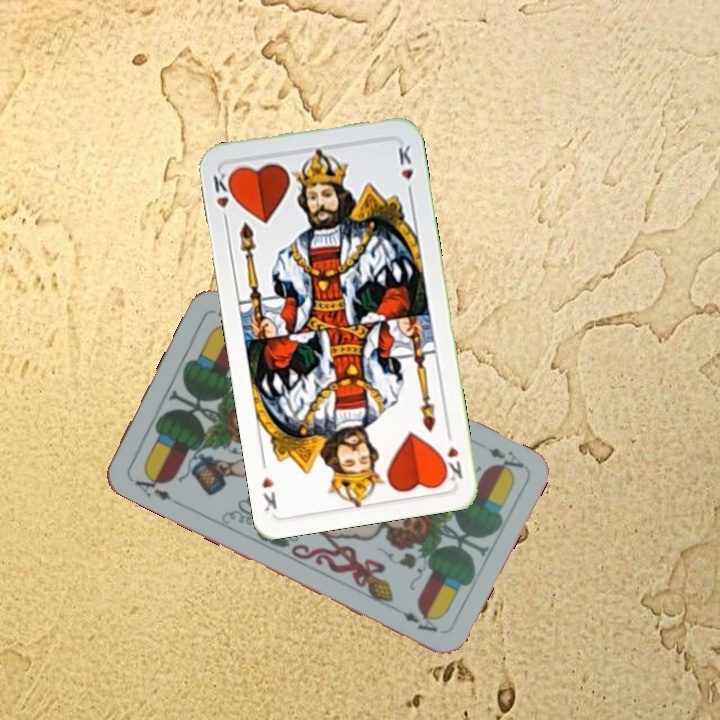EA: (127, 468, 174, 504), (484, 443, 527, 478)
HK: (209, 168, 237, 227), (438, 425, 465, 484)
